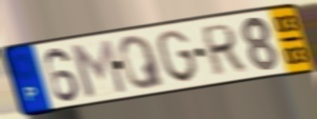6: (42, 45, 80, 103)
8: (240, 15, 279, 72)
G: (155, 28, 200, 84)
M: (67, 37, 129, 99)
Q: (117, 33, 167, 91)
R: (200, 21, 247, 79)
